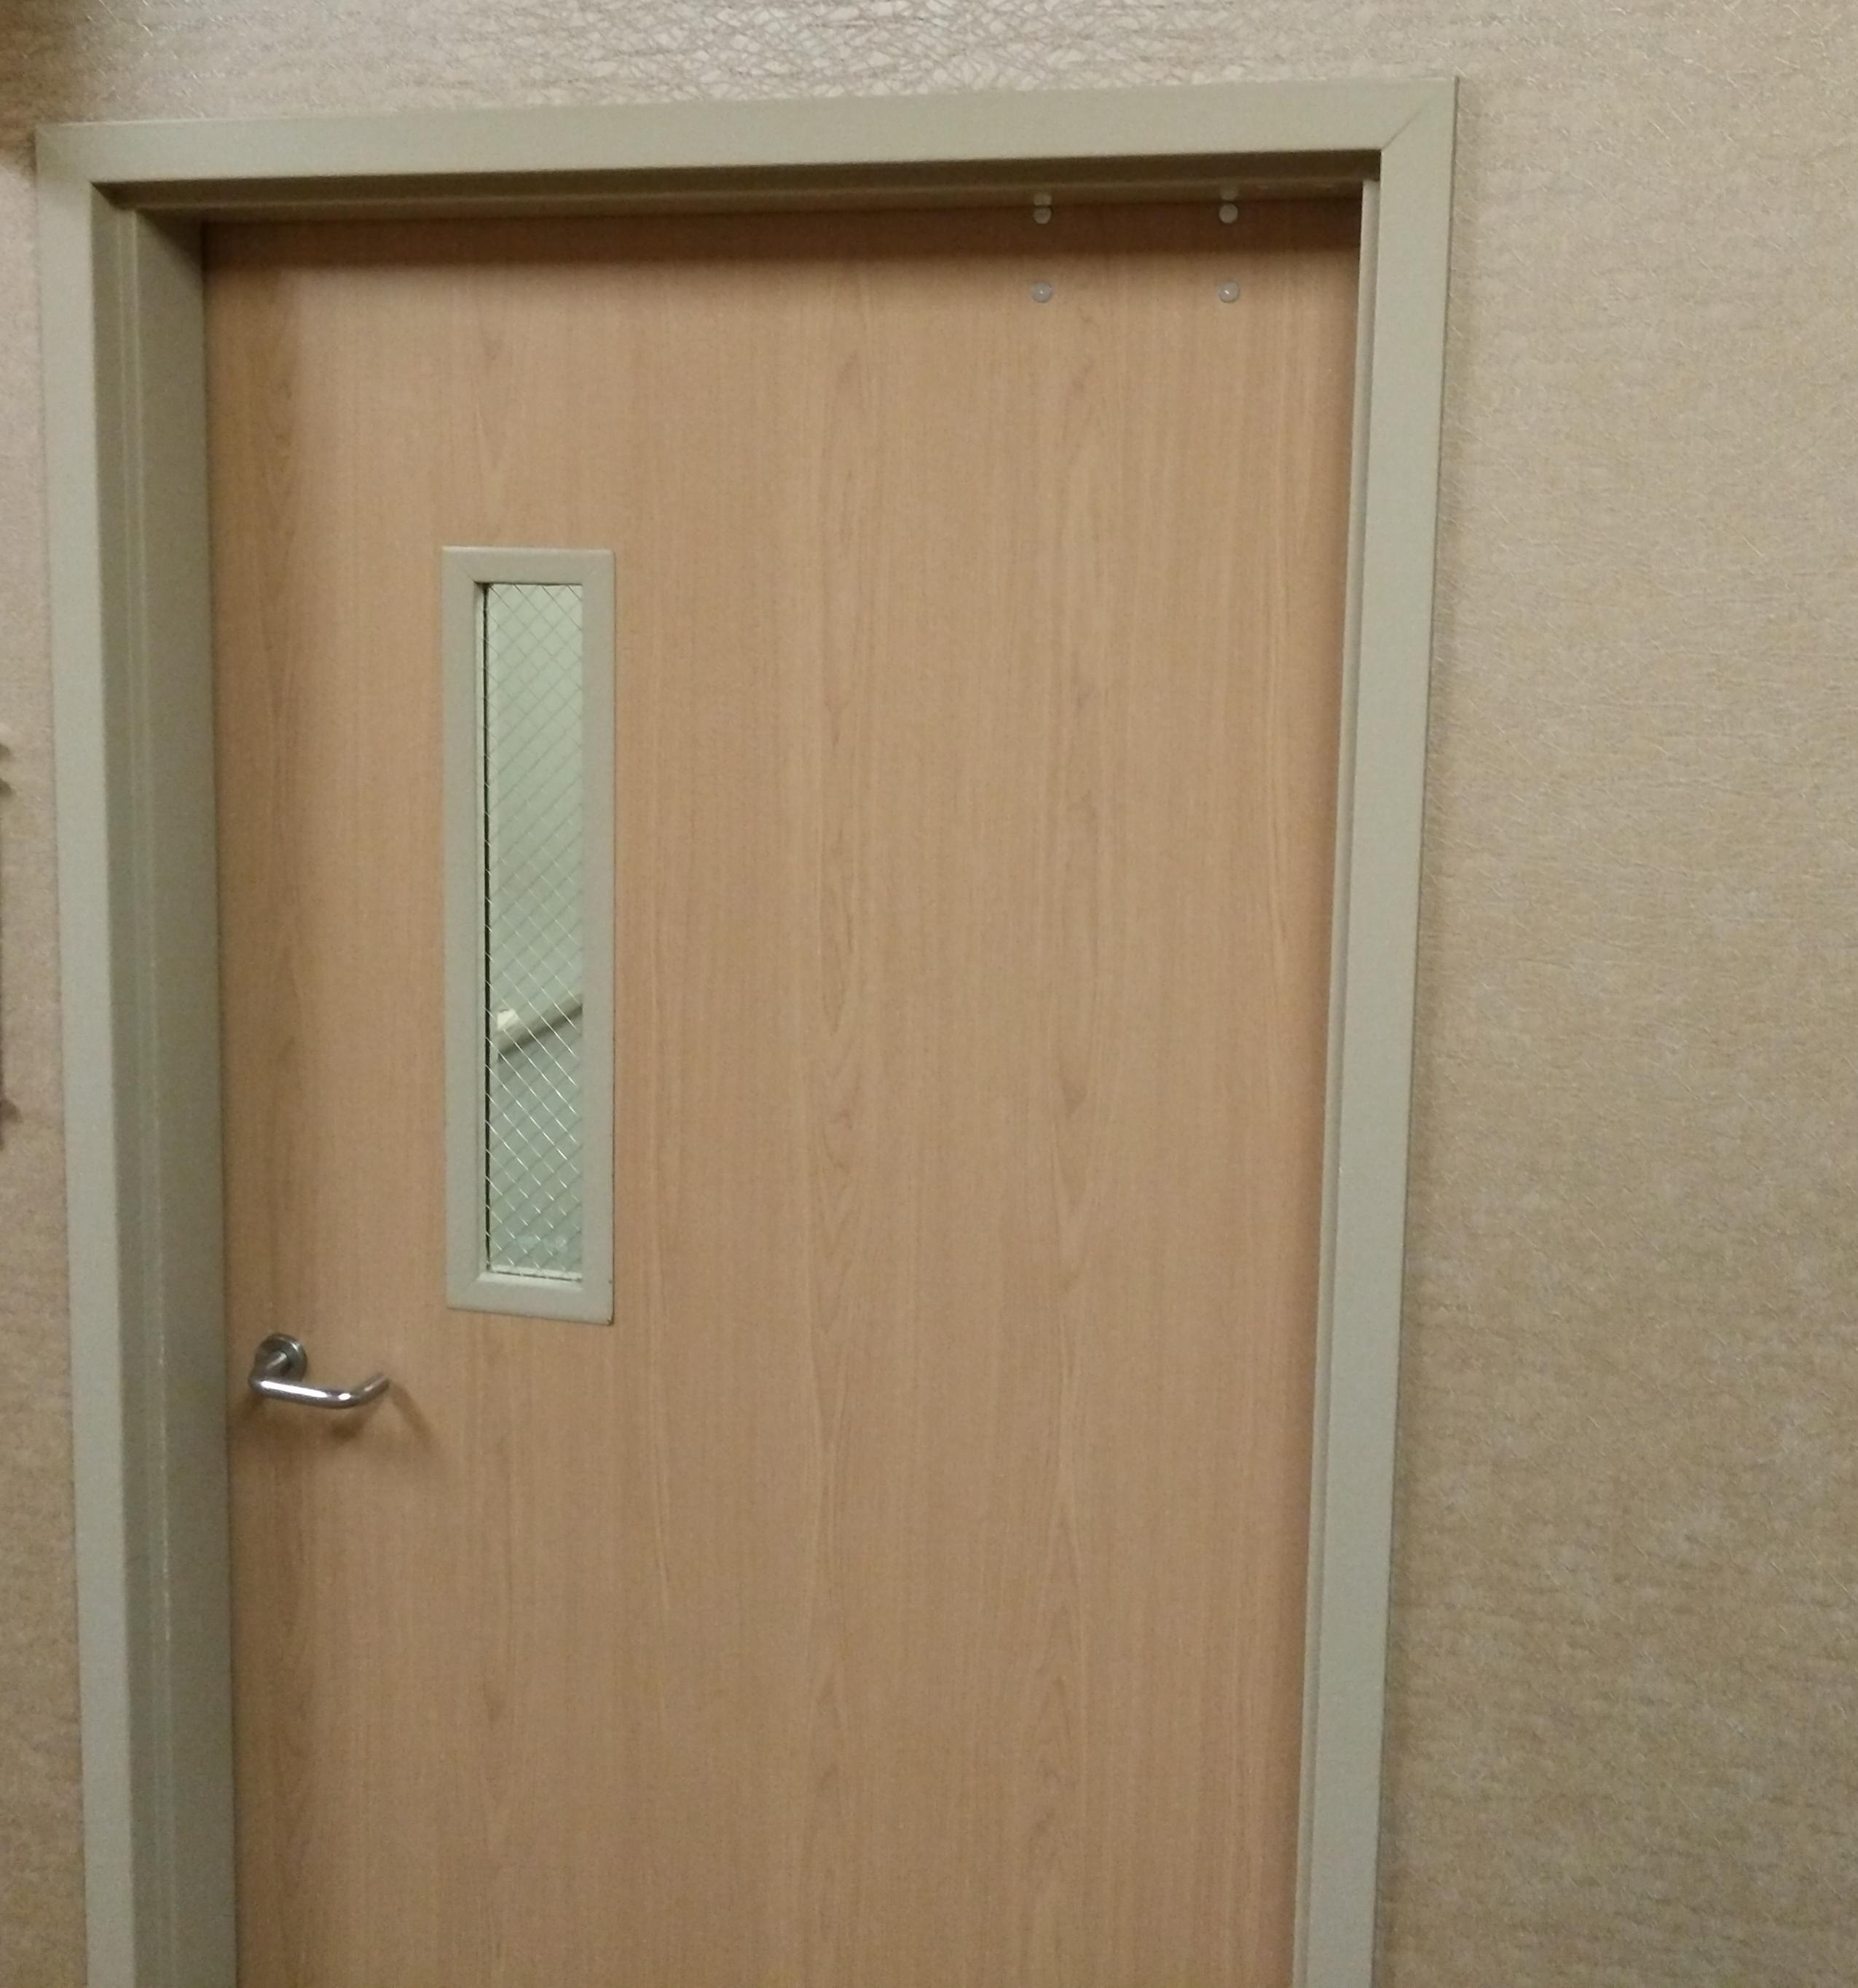door: (224, 266, 1297, 1988)
handle: (236, 1359, 400, 1446)
